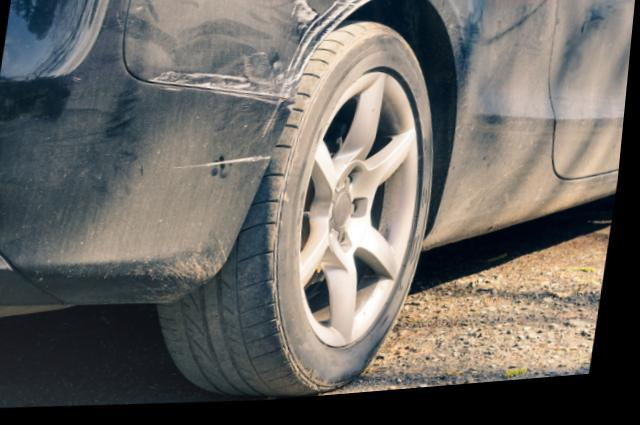scratch: (145, 0, 387, 106), (172, 158, 279, 177)
